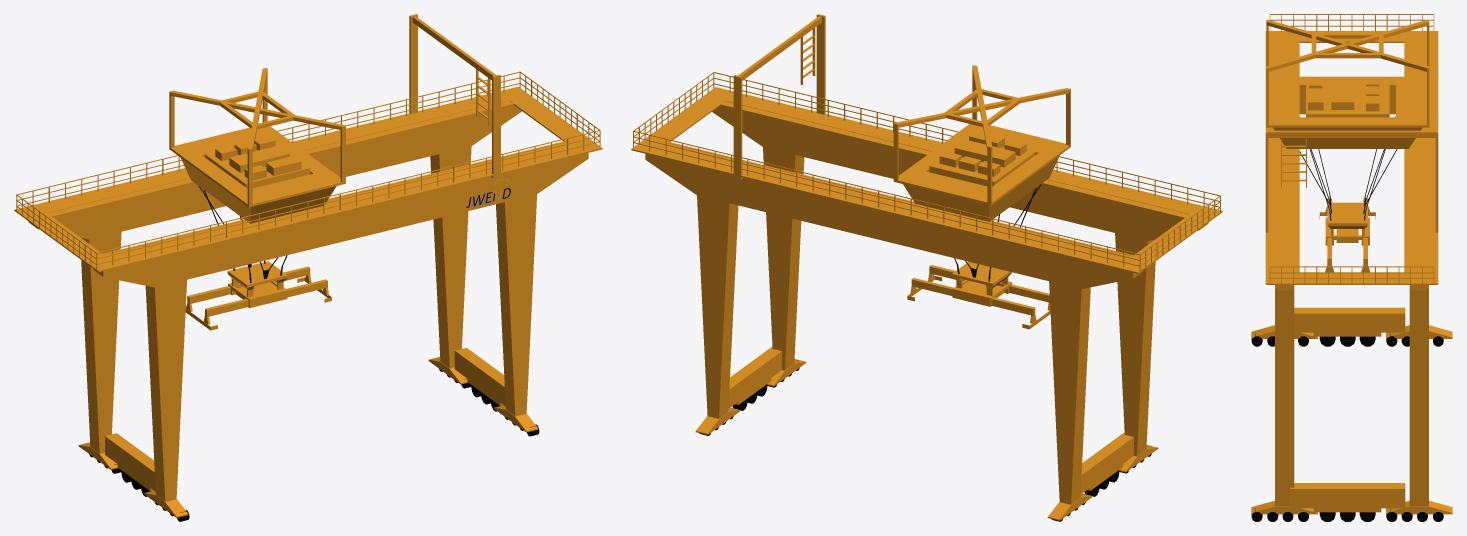
The model's file is 龙门吊1.FBX.
3 renders of one model, left to right at view 1: azimuth 30°, elevation 25°; view 2: azimuth 150°, elevation 25°; view 3: azimuth 270°, elevation 25°, orthographic. The views are drawn at different scales.
Parts seen in each view (by area): view 1: 主梁, 支腿, 吊梁桁车, 走行梁, 爬架, 运梁车, 吊具, 轮; view 2: 主梁, 支腿, 吊梁桁车, 走行梁, 爬架, 运梁车, 吊具, 轮; view 3: 主梁, 吊梁桁车, 支腿, 走行梁, 爬架, 轮, 运梁车, 吊具, 吊线.
Boxes of the visible parts, box(x1,y1,x2,y2) form: 主梁: box(14, 71, 602, 287); 支腿: box(78, 146, 538, 517); 吊梁桁车: box(169, 68, 345, 223); 走行梁: box(105, 347, 505, 491); 爬架: box(409, 14, 500, 175); 运梁车: box(185, 266, 331, 330); 吊具: box(227, 261, 287, 290); 轮: box(89, 369, 539, 521); 主梁: box(631, 72, 1222, 289); 支腿: box(695, 147, 1158, 520); 吊梁桁车: box(893, 65, 1070, 221); 走行梁: box(728, 347, 1133, 494); 爬架: box(733, 14, 825, 176); 运梁车: box(907, 265, 1050, 329); 吊具: box(952, 261, 1011, 288); 轮: box(699, 360, 1151, 521); 主梁: box(1265, 14, 1438, 290); 吊梁桁车: box(1266, 19, 1429, 148); 支腿: box(1251, 291, 1452, 514); 走行梁: box(1290, 307, 1405, 512); 爬架: box(1265, 129, 1438, 232); 轮: box(1251, 333, 1443, 521); 运梁车: box(1319, 198, 1375, 272); 吊具: box(1327, 202, 1367, 228); 吊线: box(1299, 116, 1397, 220).
Size of the model in its own units: 1510 by 1040 by 508.
